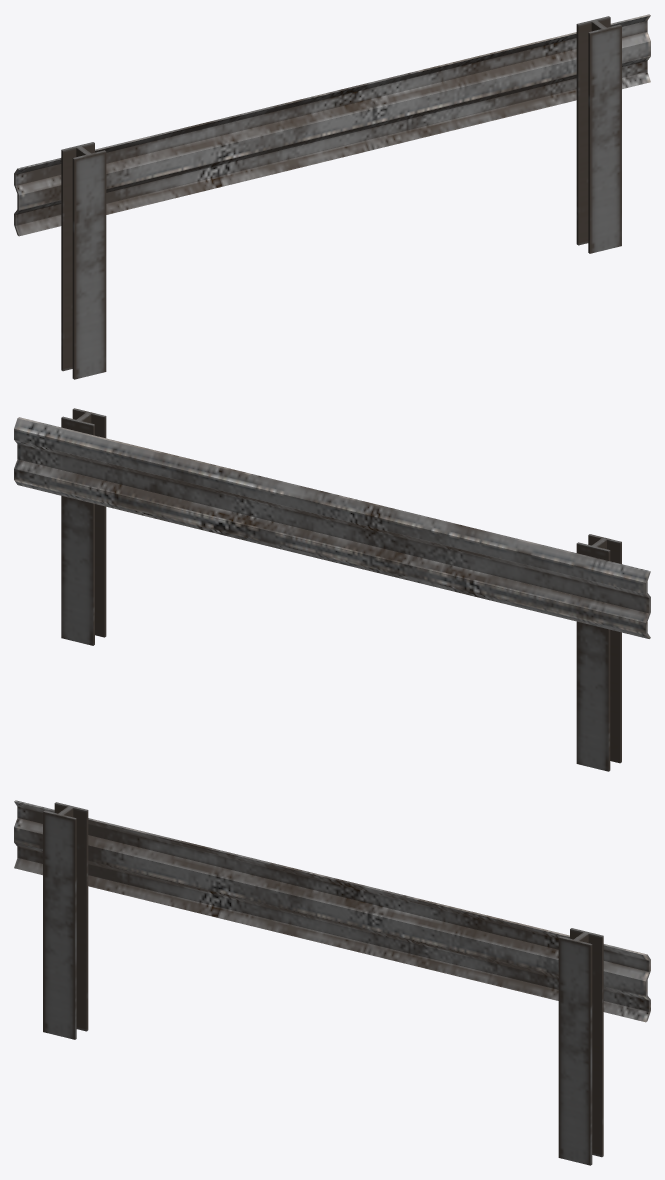
File: Guardrail 2support.fbx
3 renders of one model, top to bottom at view 1: azimuth 30°, elevation 25°; view 2: azimuth 150°, elevation 25°; view 3: azimuth 330°, elevation 25°, orthographic.
Visible parts, largest first — view 1: Guardrail 2Sup; view 2: Guardrail 2Sup; view 3: Guardrail 2Sup.
Boxes of the visible parts, x1,y1,x2,y2 form: Guardrail 2Sup: [14, 14, 650, 379]; Guardrail 2Sup: [14, 408, 650, 771]; Guardrail 2Sup: [14, 800, 650, 1165].
Bounding box in the file's own units: 300 × 100 × 14.96.
